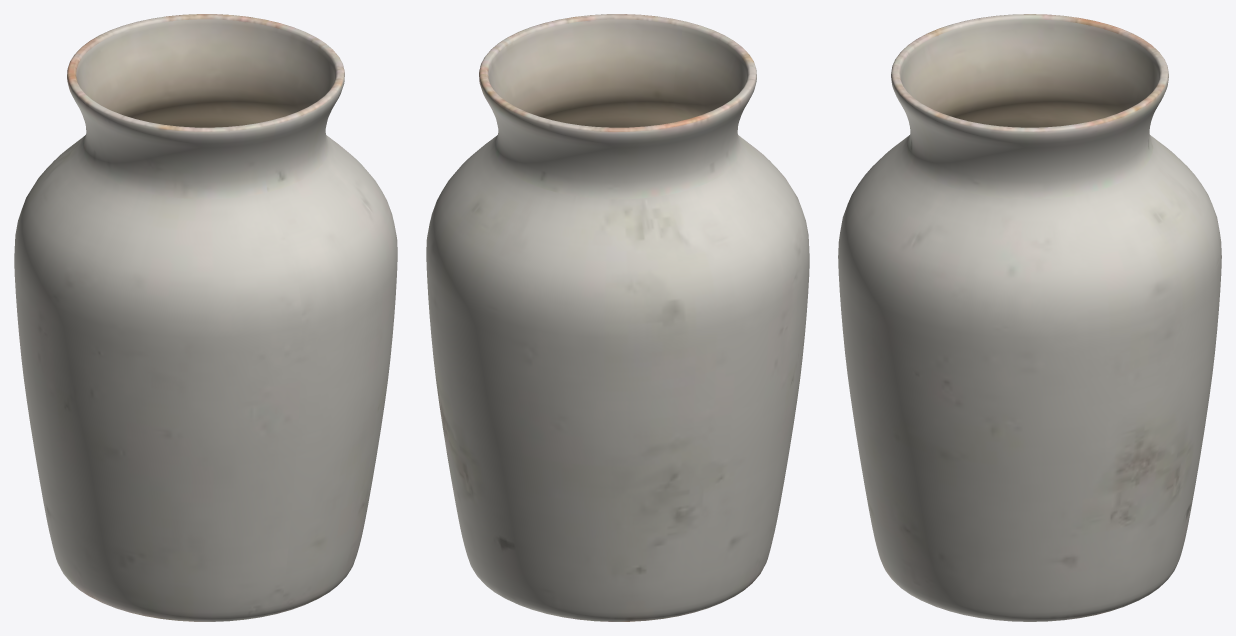
The model's file is ceramic_vase_02.glb.
3 views of the same model, side by side, from view 1: azimuth 30°, elevation 25°; view 2: azimuth 150°, elevation 25°; view 3: azimuth 270°, elevation 25° (orthographic).
Visible parts, largest first — view 1: ceramic_vase_02; view 2: ceramic_vase_02; view 3: ceramic_vase_02.
Boxes of the visible parts, left/top/right/bottom form: ceramic_vase_02: left=14, top=14, right=397, bottom=621; ceramic_vase_02: left=426, top=14, right=809, bottom=621; ceramic_vase_02: left=838, top=14, right=1221, bottom=621.
Size of the model in its own units: 0.2184 by 0.3092 by 0.2184.
1 material, 1 textured.
